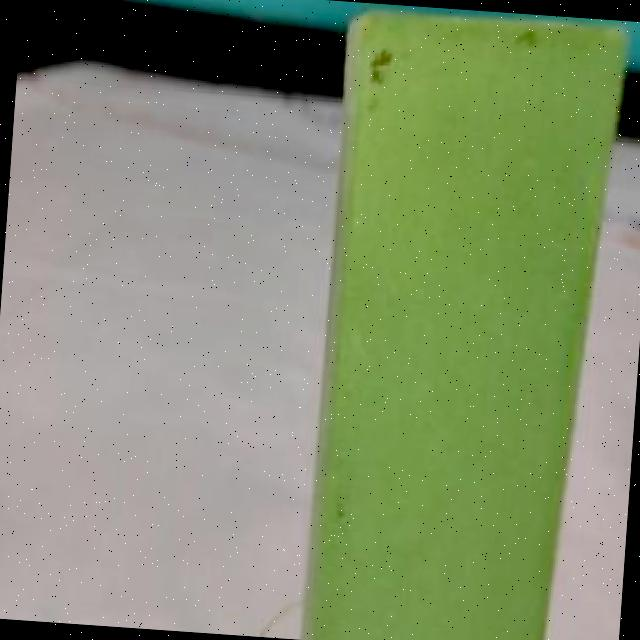greenbox: (304, 5, 628, 640)
